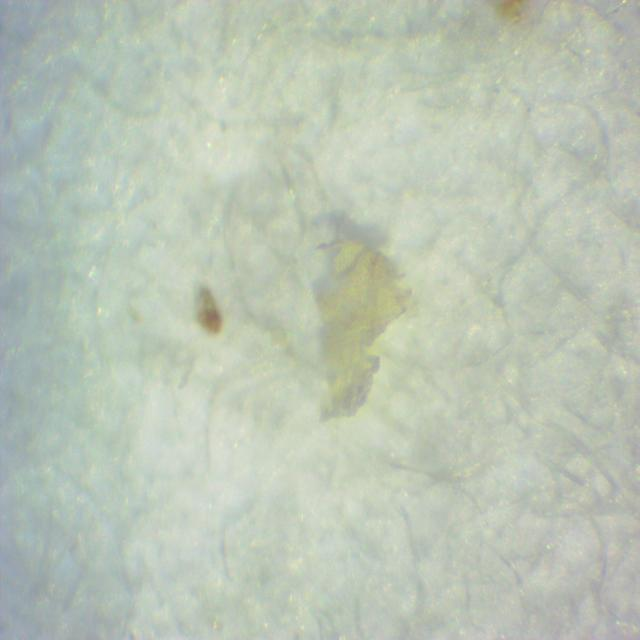microplastic: (317, 243, 412, 421)
